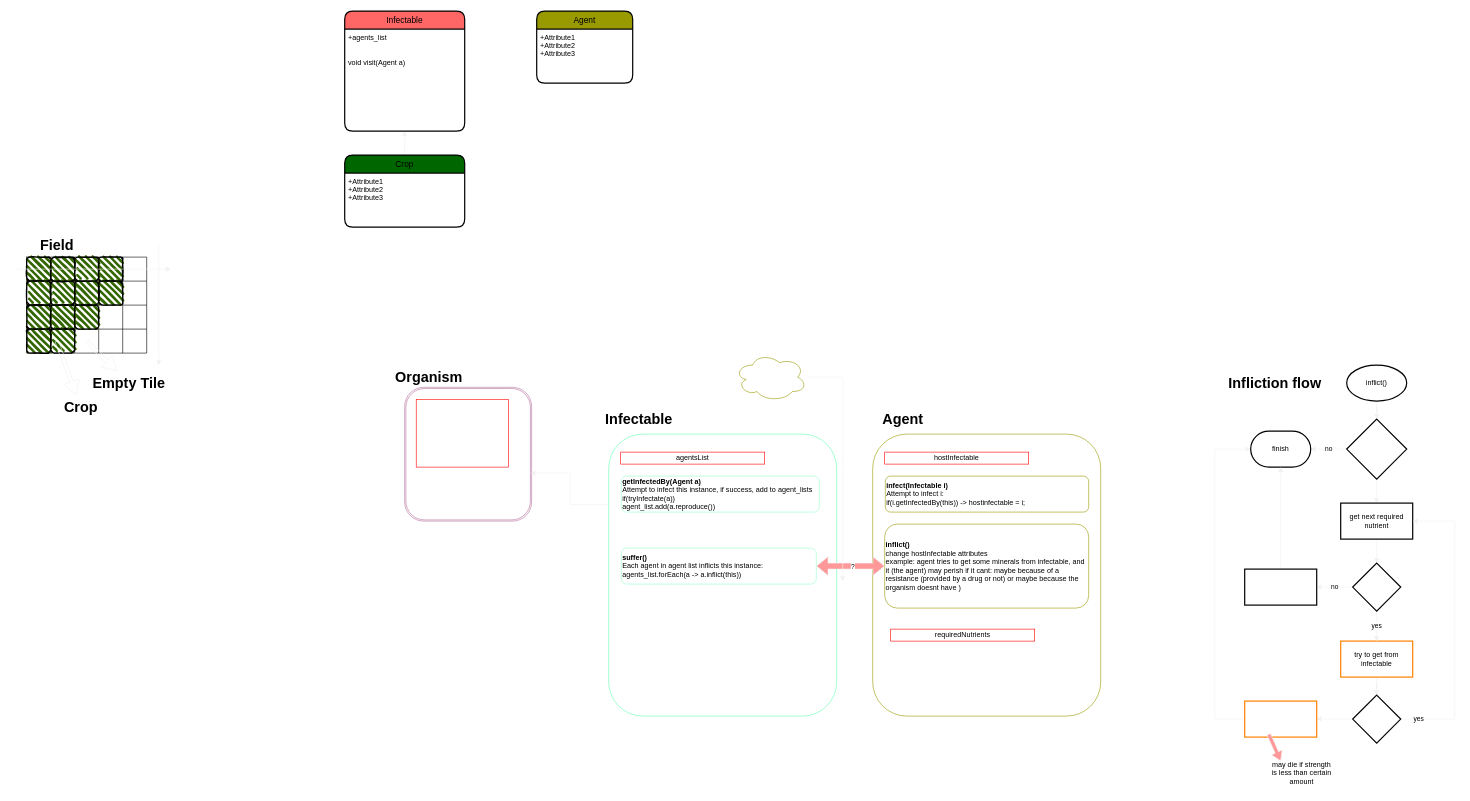
Image size: 1470x801. Some labels were removed from this diagram. Here are the shapes that lost their labels. From the top down, the centre of each, then its label:
At (x=770, y=376): "no sure who should act".
At (x=462, y=433): "nutrients mineral_1 mineral_2 ... water ...".
At (x=1376, y=448): "has host?".
At (x=1280, y=586): "get stronger".
At (x=1376, y=586): "has next".
At (x=1280, y=718): "get weeker".
At (x=1376, y=718): "success?".
